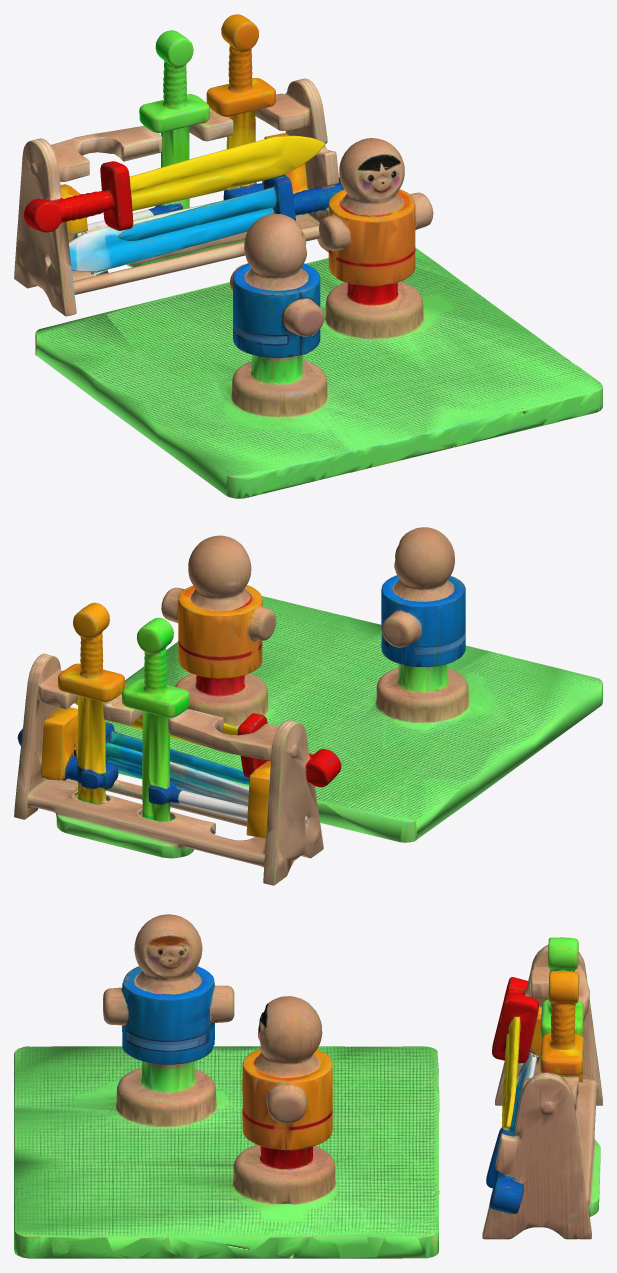
3 views of the same model, one above another, from view 1: azimuth 30°, elevation 25°; view 2: azimuth 150°, elevation 25°; view 3: azimuth 270°, elevation 25° (orthographic). The views are drawn at different scales.
Visible parts, largest first — view 1: Mesh_0; view 2: Mesh_0; view 3: Mesh_0.
Part boxes in pixels (x1,y1,x2,y2): Mesh_0: [14, 14, 602, 498]; Mesh_0: [14, 527, 602, 885]; Mesh_0: [14, 914, 602, 1258].
Size of the model in its own units: 1.47 by 0.8362 by 1.91.
1 material, 1 textured.
